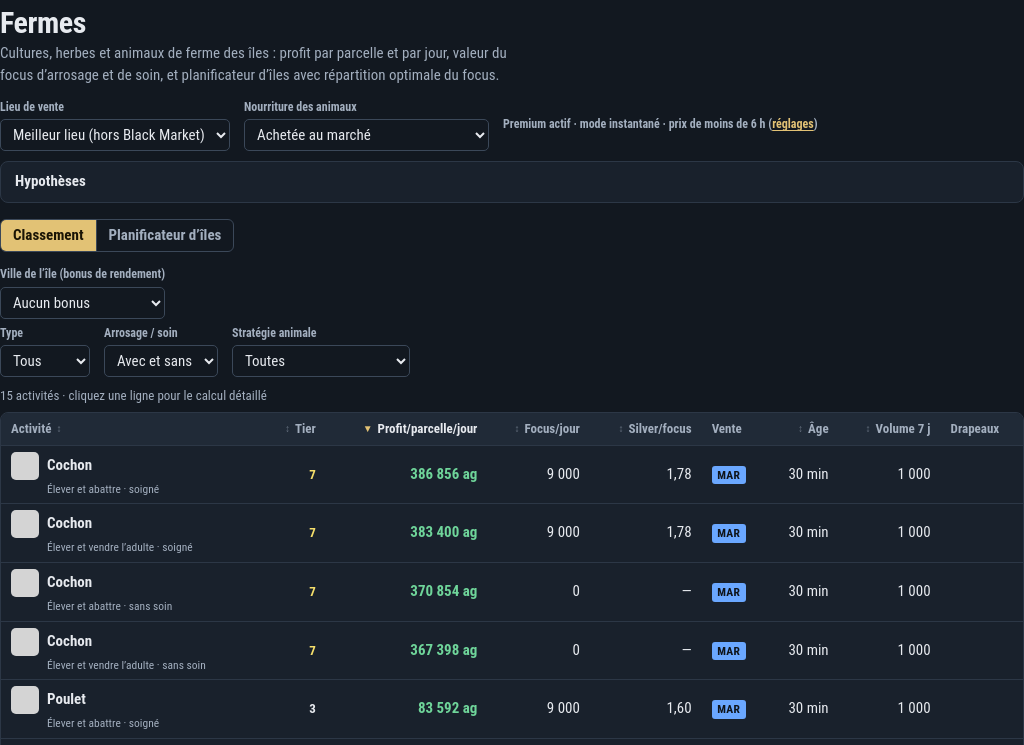
Test case: page Fermes › classement : filtre « Stratégie animale » désactivé pour les cultures et herbes
Check: the dropdown labelled "Stratégie animale" is enabled, box [232,345,410,377]
Select "Herbes" in the dropdown labelled "Type" at [45, 361], box [0,345,90,377]
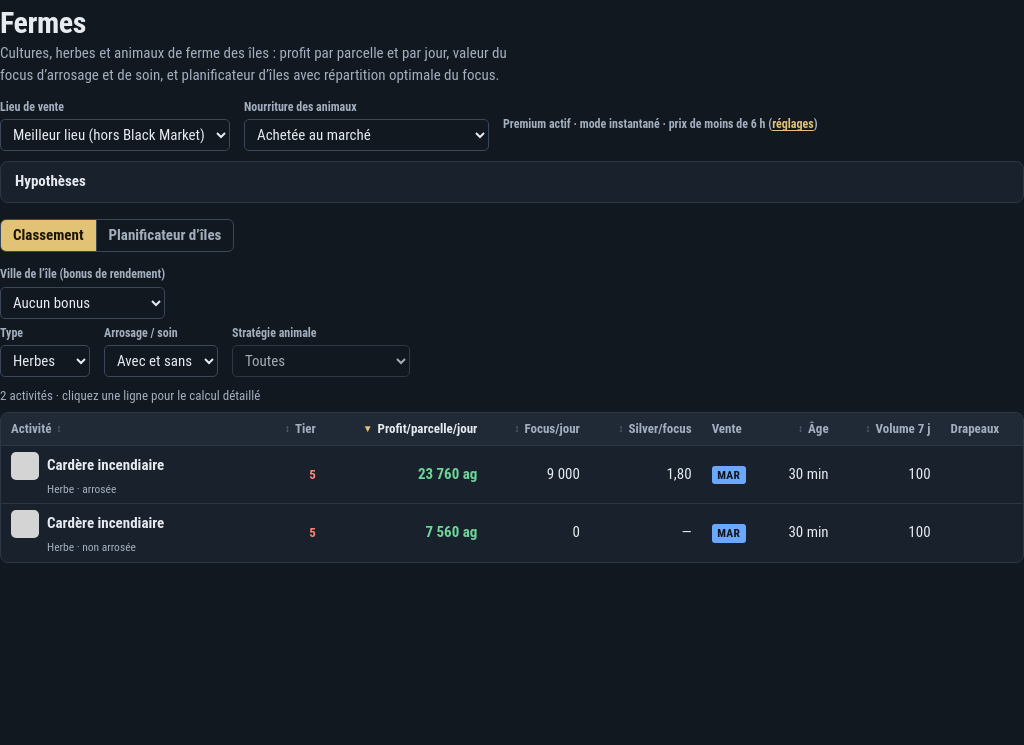
Check: the dropdown labelled "Stratégie animale" is disabled, box [232,345,410,377]
